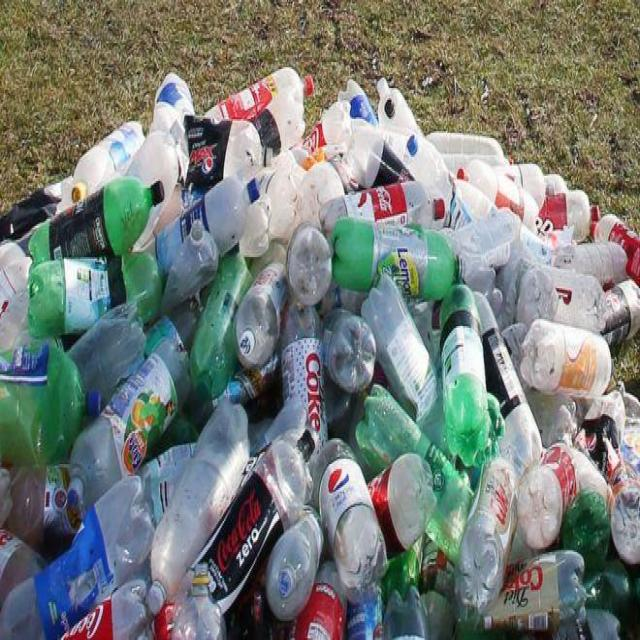heap: (1, 63, 640, 640)
plastic_bottle: (32, 502, 139, 616), (80, 360, 182, 456), (288, 292, 332, 488), (176, 436, 238, 569), (336, 223, 449, 295), (320, 458, 383, 582), (440, 299, 488, 456), (32, 274, 168, 329), (523, 324, 607, 398), (501, 561, 585, 631), (468, 166, 535, 249), (182, 113, 261, 181), (528, 271, 616, 328), (258, 227, 282, 403), (526, 451, 570, 544), (385, 457, 429, 546), (46, 210, 142, 249), (486, 472, 512, 608), (210, 280, 242, 382), (328, 318, 373, 387), (291, 227, 332, 301), (180, 222, 215, 287), (331, 201, 440, 220)
